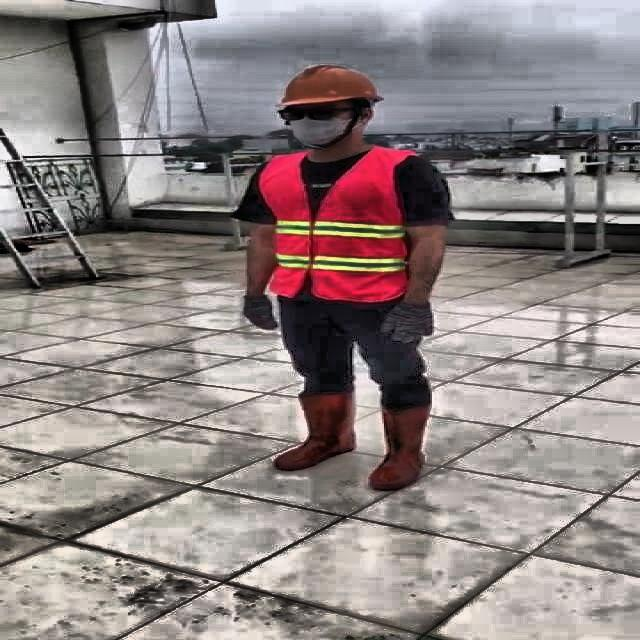safety_helmet: (269, 62, 386, 108)
safety_jacket: (256, 149, 414, 304)
